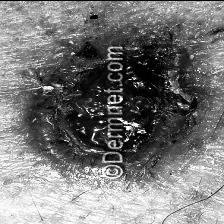Potentially Malignant Skin Tumors: (56, 54, 202, 152)
